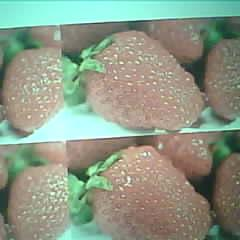straw-ripe: (86, 31, 202, 131), (95, 146, 210, 240), (4, 48, 64, 132), (7, 162, 70, 240)
